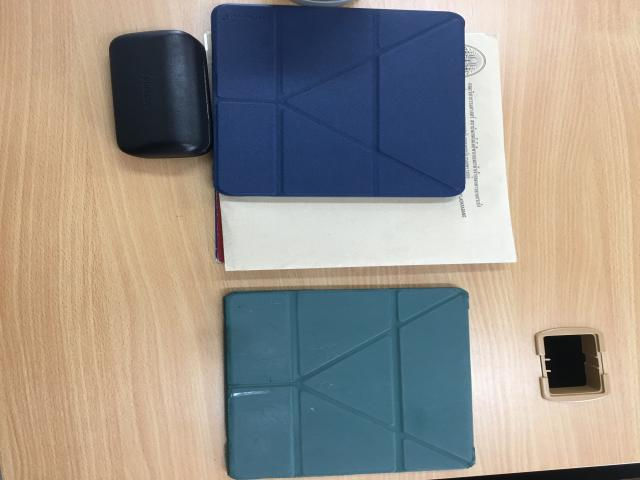Glasses: (107, 30, 214, 160)
